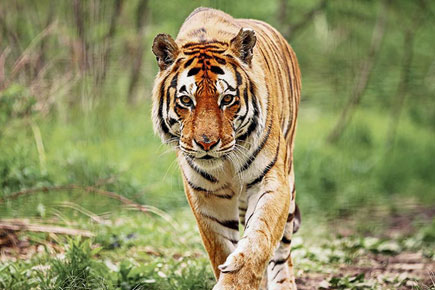Tiger: (150, 8, 306, 290)
